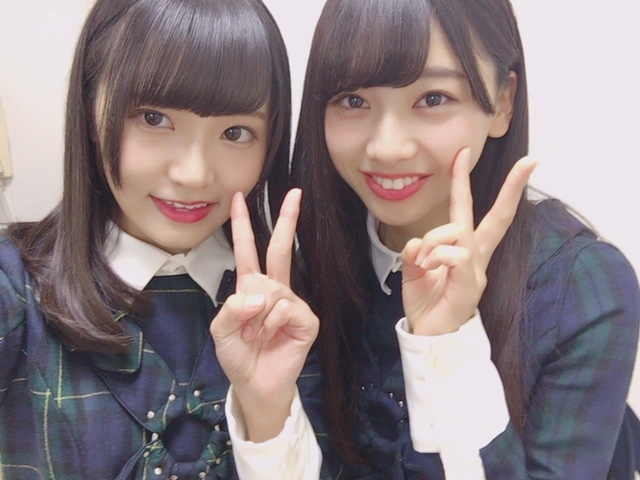face: (323, 7, 519, 226), (95, 63, 267, 250)
hand: (399, 146, 538, 334), (209, 185, 321, 401)
